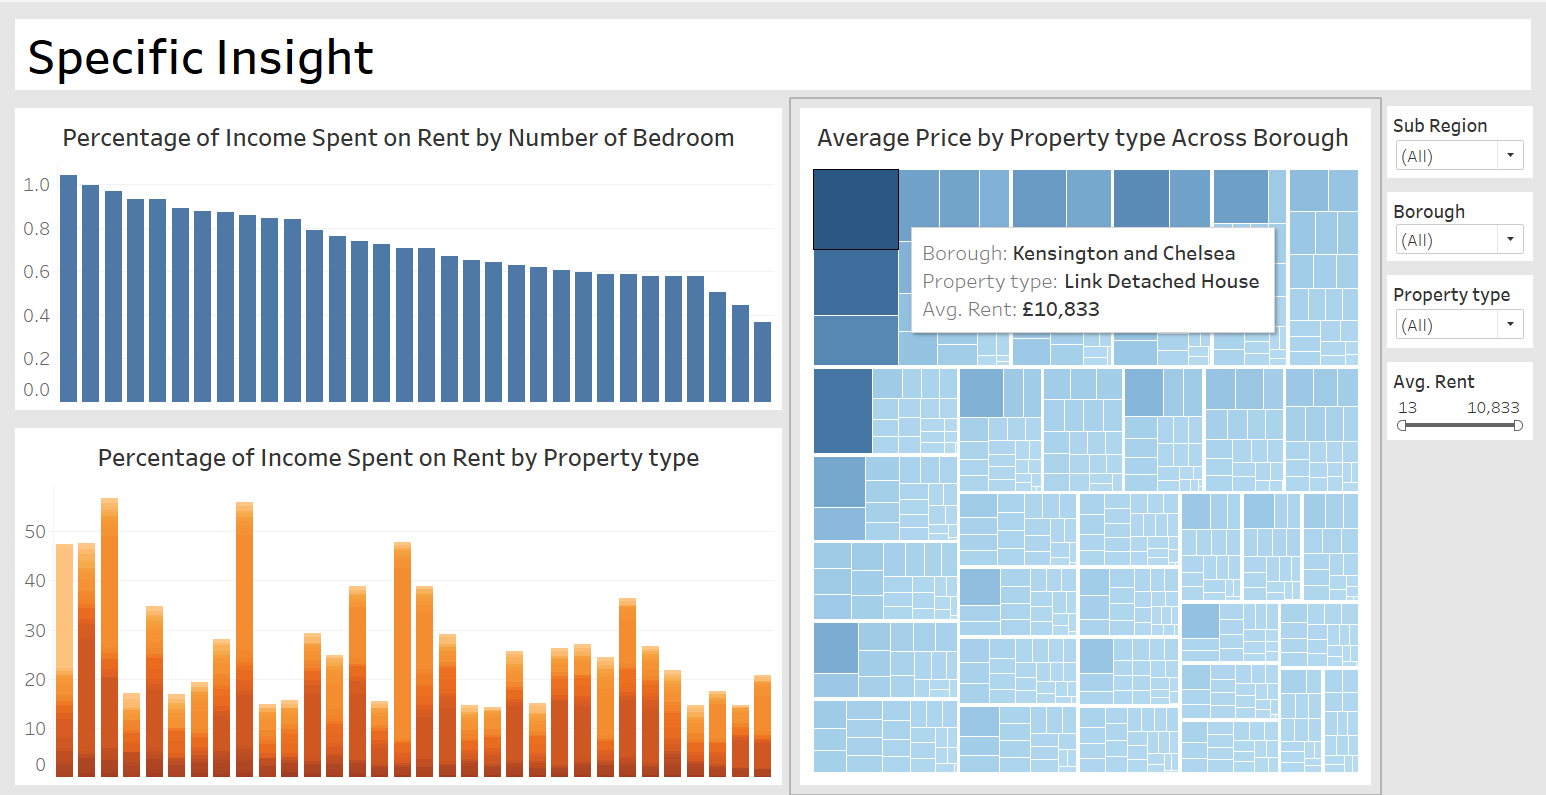

Layout of this report page (visuals, bound fields, positions):
{"tool":"tableau","page":{"name":"Dashboard 4","canvas":[1550,800],"ordinal":3},"visuals":[{"type":"text","box":[8,8,1534,89]},{"type":"worksheet","title":"% by bedroom","mark":"Automatic","rows":["Calculation_346777236158754817"],"cols":["Borough"],"box":[8,97,785,320]},{"type":"worksheet","title":"Treemap","mark":"Automatic","box":[793,97,589,695]},{"type":"filter","title":"% by property ","param":"[federated.0mtfeyj0am8fze13vt68h0kjogjt].[Borough (group)]","box":[1382,97,160,86]},{"type":"filter","title":"% by property ","param":"[federated.0mtfeyj0am8fze13vt68h0kjogjt].[none:Borough:nk]","box":[1382,183,160,83]},{"type":"filter","title":"% by property ","param":"[federated.0mtfeyj0am8fze13vt68h0kjogjt].[none:Property_type:nk]","box":[1382,266,160,87]},{"type":"filter","title":"Treemap","param":"[federated.0mtfeyj0am8fze13vt68h0kjogjt].[avg:Price_weekly:qk]","box":[1382,353,160,92]},{"type":"worksheet","title":"% by property ","mark":"Automatic","rows":["Calculation_346777236158754817"],"cols":["Borough"],"box":[8,417,785,375]}]}

Visuals, with their boxes in screenshot pixels (x1, y1, x2, y2), scaled from the page's 1550x800 canvas onto the 1546x795 screenshot:
text: bbox(8, 8, 1538, 96)
"% by bedroom" worksheet: bbox(8, 96, 791, 414)
"Treemap" worksheet: bbox(791, 96, 1378, 787)
"% by property " filter: bbox(1378, 96, 1538, 182)
"% by property " filter: bbox(1378, 182, 1538, 264)
"% by property " filter: bbox(1378, 264, 1538, 351)
"Treemap" filter: bbox(1378, 351, 1538, 442)
"% by property " worksheet: bbox(8, 414, 791, 787)
